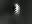person: (14, 4, 22, 17)
